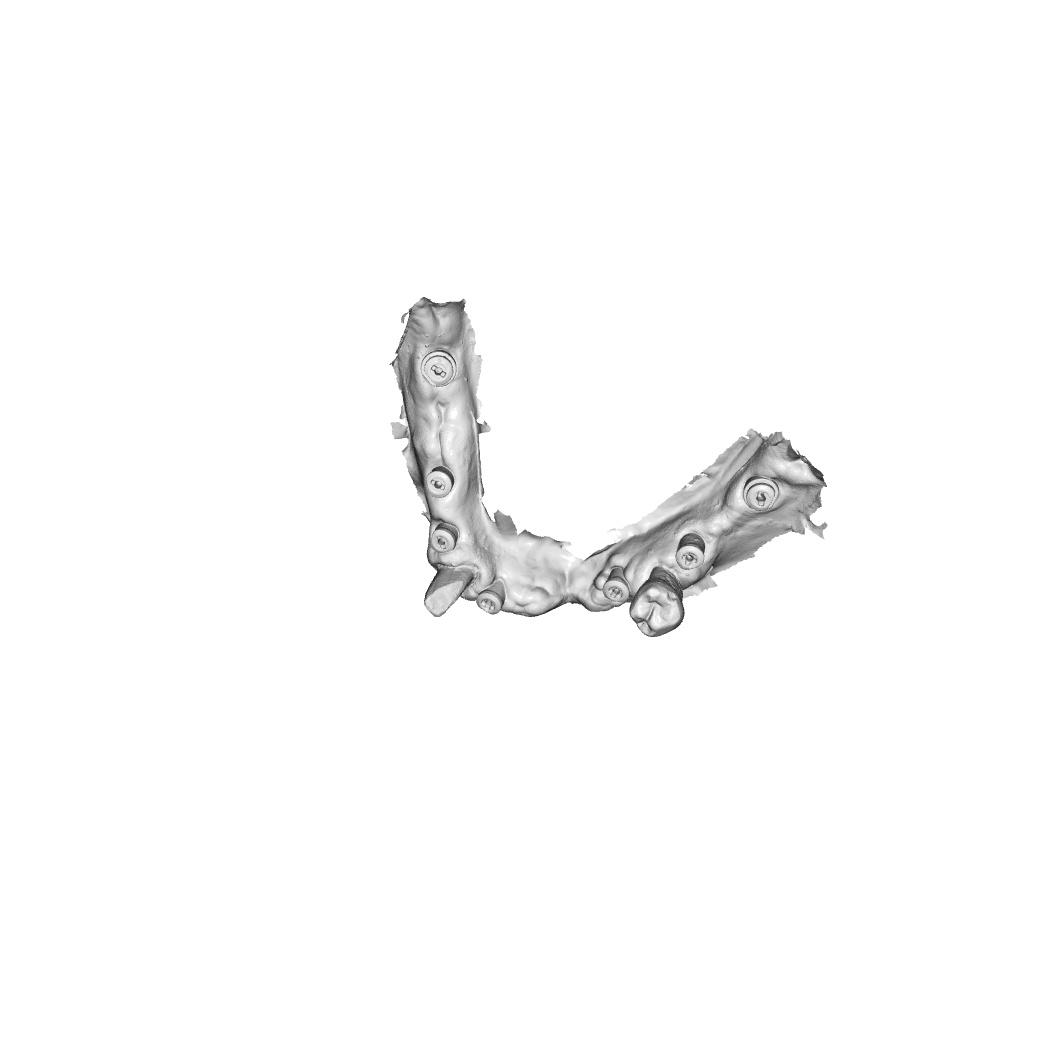crown: (421, 567, 473, 620)
implant_minus: (420, 349, 460, 390), (740, 475, 782, 514), (423, 466, 456, 499), (429, 521, 459, 555)
implant_plus: (673, 532, 708, 572), (601, 566, 631, 605), (475, 582, 508, 617)
premolar: (627, 579, 687, 638)
